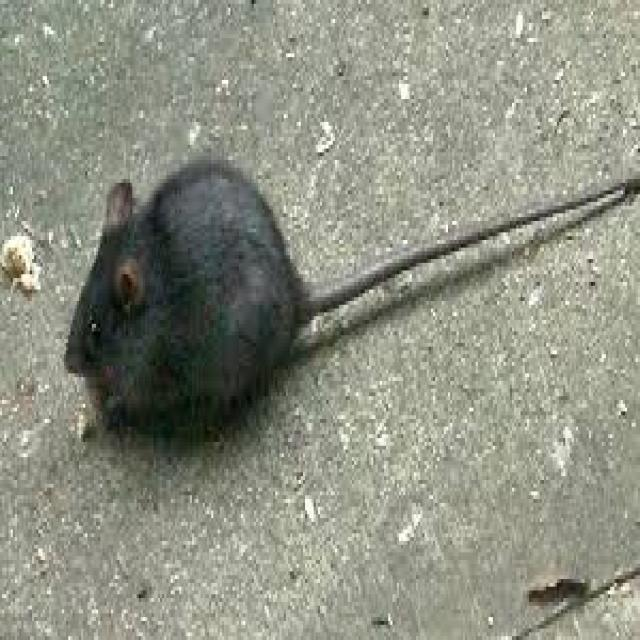Rat: (38, 126, 356, 446)
